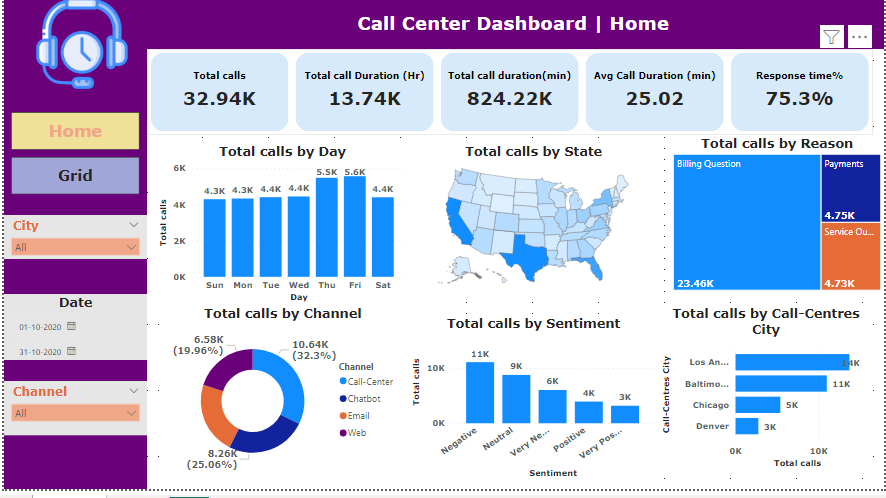

What the dashboard file says about the page in this screenshot:
{"tool":"powerbi","page":{"name":"Home","canvas":[1280,720],"ordinal":0},"visuals":[{"type":"actionButton","box":[0,0,100,40],"z":0},{"type":"shape","box":[0,0,1280,80],"z":1000},{"type":"shape","box":[0,80,208,640],"z":2000},{"type":"cardVisual","fields":{"Data":["Call Center_Call Center.Total calls","Call Center_Call Center.Total call duration (Hr)","Call Center_Call Center.Total call duration in (min)","Call Center_Call Center.Avarage call duration","Call Center_Call Center.Response percentage%"]},"box":[208,80,1056,125.1],"z":3000},{"type":"shapeMap","fields":{"Category":["Call Center_Call Center.State"],"Value":["Call Center_Call Center.Total calls"]},"box":[589.1,216.7,362.2,218.2],"z":6001},{"type":"columnChart","fields":{"Y":["Call Center_Call Center.Total calls"],"Category":["date.Day"]},"box":[221.1,216.7,368,235.6],"z":6002},{"type":"treemap","fields":{"Values":["Call Center_Call Center.Total calls"],"Group":["Call Center_Call Center.Reason"]},"box":[968.4,205.5,311.6,230.7],"z":6003},{"type":"donutChart","fields":{"Y":["Call Center_Call Center.Total calls"],"Category":["Call Center_Call Center.Channel"]},"box":[230.7,453.1,348.6,256],"z":6004},{"type":"columnChart","fields":{"Category":["Call Center_Call Center.Sentiment"],"Y":["Call Center_Call Center.Total calls"]},"box":[589.1,466.9,362.2,241.5],"z":6005},{"type":"barChart","fields":{"Y":["Call Center_Call Center.Total calls"],"Category":["Call Center_Call Center.Call-Centres City"]},"box":[952.7,452.4,311.3,241.5],"z":6006},{"type":"slicer","fields":{"Values":["Call Center_Call Center.City"]},"box":[0,321.5,208,64],"z":6007},{"type":"slicer","title":"Date","fields":{"Values":["date.Date"]},"box":[0,436.4,208,96],"z":6008},{"type":"slicer","fields":{"Values":["Call Center_Call Center.Channel"]},"box":[0,562.9,208,78.5],"z":6009},{"type":"textbox","box":[509.1,20.4,490.2,49.5],"z":6010},{"type":"pageNavigator","box":[10.2,171.6,187.6,120.7],"z":6011},{"type":"image","box":[18.9,0,189.1,142.5],"z":6012}]}

Visuals, with their boxes in screenshot pixels (x1, y1, x2, y2), scaled from the page's 1280x720 canvas onto the 886x498 screenshot:
actionButton: [x1=0, y1=0, x2=69, y2=28]
shape: [x1=0, y1=0, x2=885, y2=55]
shape: [x1=0, y1=55, x2=144, y2=497]
cardVisual - Call Center_Call Center.Total calls x Call Center_Call Center.Total call duration (Hr): [x1=144, y1=55, x2=875, y2=142]
shapeMap - Call Center_Call Center.State x Call Center_Call Center.Total calls: [x1=408, y1=150, x2=658, y2=301]
columnChart - Call Center_Call Center.Total calls x date.Day: [x1=153, y1=150, x2=408, y2=313]
treemap - Call Center_Call Center.Total calls x Call Center_Call Center.Reason: [x1=670, y1=142, x2=885, y2=302]
donutChart - Call Center_Call Center.Total calls x Call Center_Call Center.Channel: [x1=160, y1=313, x2=401, y2=490]
columnChart - Call Center_Call Center.Sentiment x Call Center_Call Center.Total calls: [x1=408, y1=323, x2=658, y2=490]
barChart - Call Center_Call Center.Total calls x Call Center_Call Center.Call-Centres City: [x1=659, y1=313, x2=875, y2=480]
slicer - Call Center_Call Center.City: [x1=0, y1=222, x2=144, y2=267]
"Date" slicer: [x1=0, y1=302, x2=144, y2=368]
slicer - Call Center_Call Center.Channel: [x1=0, y1=389, x2=144, y2=444]
textbox: [x1=352, y1=14, x2=692, y2=48]
pageNavigator: [x1=7, y1=119, x2=137, y2=202]
image: [x1=13, y1=0, x2=144, y2=99]
